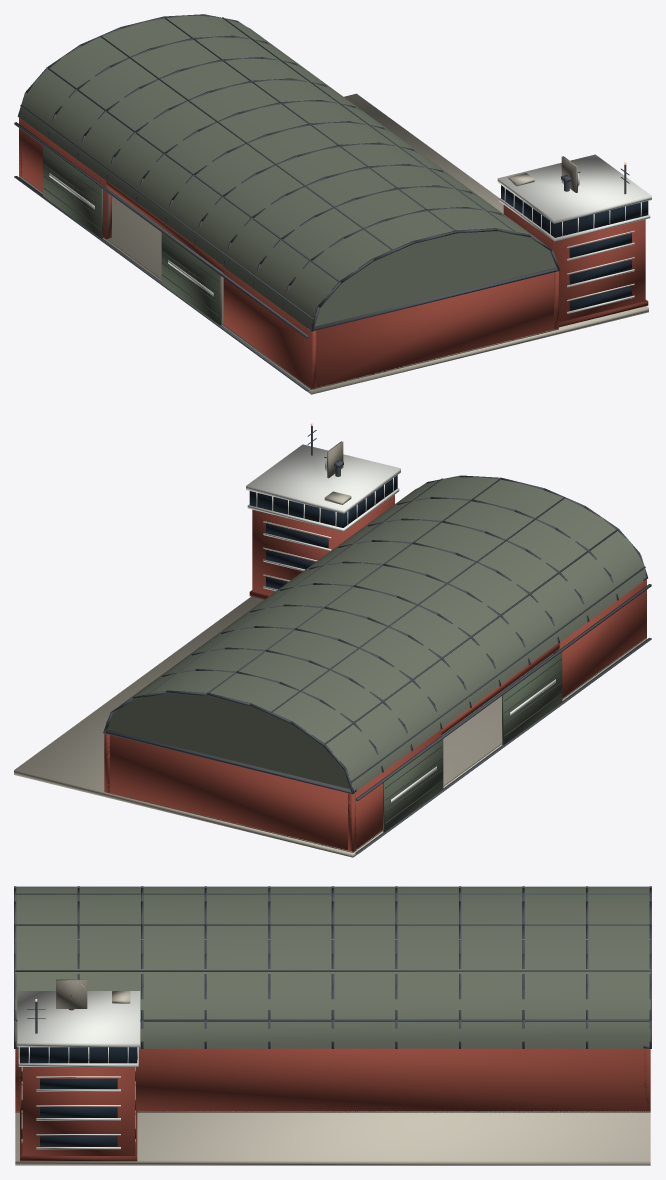
Rendered from raf_hangar_tower.glb.
3 views of the same model, one above another, from view 1: azimuth 30°, elevation 25°; view 2: azimuth 150°, elevation 25°; view 3: azimuth 270°, elevation 25° (orthographic). The views are drawn at different scales.
Visible parts, largest first — view 1: Surface_roof, Surface_brick, Surface_steel, Surface_white, Surface_door_steel, Surface_concrete, Surface_glass_dark, Surface_concrete_dark; view 2: Surface_roof, Surface_brick, Surface_steel, Surface_concrete, Surface_white, Surface_door_steel, Surface_concrete_dark, Surface_glass_dark; view 3: Surface_roof, Surface_brick, Surface_concrete, Surface_steel, Surface_white, Surface_glass_dark, Surface_concrete_dark, Surface_brick_dark.
Part boxes in pixels (<box>): Surface_roof: <box>20,15,557,328</box>; Surface_brick: <box>19,117,645,389</box>; Surface_steel: <box>14,14,629,390</box>; Surface_white: <box>49,154,651,313</box>; Surface_door_steel: <box>43,146,221,325</box>; Surface_concrete: <box>19,93,648,394</box>; Surface_glass_dark: <box>501,185,648,310</box>; Surface_concrete_dark: <box>19,156,577,389</box>; Surface_roof: <box>106,477,645,790</box>; Surface_brick: <box>104,495,646,852</box>; Surface_steel: <box>103,424,651,853</box>; Surface_concrete: <box>14,491,646,857</box>; Surface_white: <box>246,444,555,803</box>; Surface_door_steel: <box>383,652,562,832</box>; Surface_concrete_dark: <box>104,441,646,852</box>; Surface_glass_dark: <box>249,475,397,589</box>; Surface_roof: <box>15,887,650,1048</box>; Surface_brick: <box>15,1048,650,1155</box>; Surface_concrete: <box>15,991,650,1165</box>; Surface_steel: <box>14,886,651,1048</box>; Surface_white: <box>17,984,140,1149</box>; Surface_glass_dark: <box>20,1047,137,1146</box>; Surface_concrete_dark: <box>15,979,650,1112</box>; Surface_brick_dark: <box>20,1108,137,1161</box>.
Bounding box in the file's own units: 61.6 × 24.8 × 90.34.
